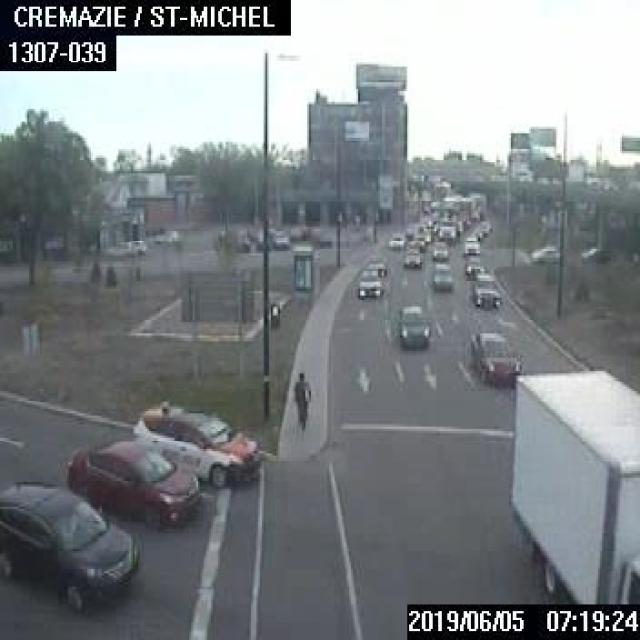pedestrian: (291, 369, 310, 431)
vehicle: (506, 369, 638, 600), (0, 478, 136, 612), (64, 433, 198, 528), (131, 398, 260, 487), (467, 330, 521, 383), (395, 302, 429, 349), (470, 271, 499, 307), (355, 268, 382, 298), (431, 260, 452, 291), (438, 215, 458, 241), (463, 253, 484, 277), (530, 242, 558, 260), (580, 244, 607, 261), (365, 254, 385, 274), (108, 240, 136, 254), (403, 246, 421, 266), (431, 240, 448, 259), (272, 228, 288, 248), (462, 235, 478, 253), (128, 237, 146, 252), (388, 232, 404, 248), (408, 234, 424, 248), (418, 228, 432, 242)
